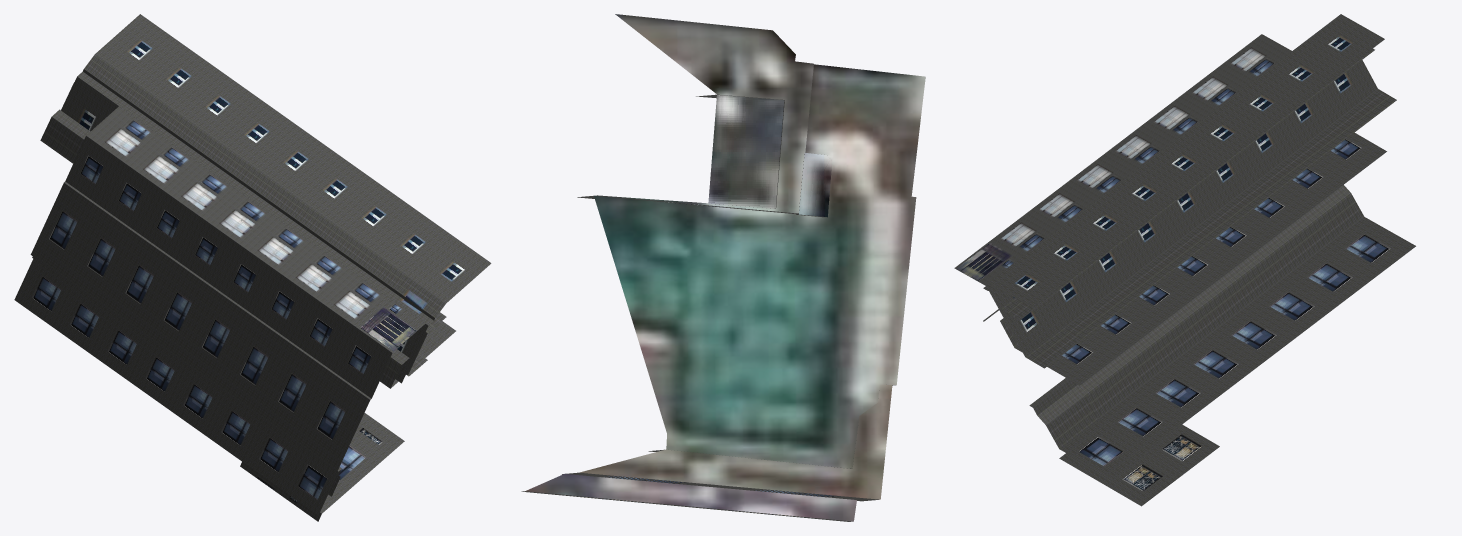
3 renders of one model, left to right at view 1: azimuth 30°, elevation 25°; view 2: azimuth 150°, elevation 25°; view 3: azimuth 270°, elevation 25°, orthographic. The views are drawn at different scales.
Bounding box in the file's own units: 24.74 × 29.75 × 31.91.
18 materials, 18 textured.
